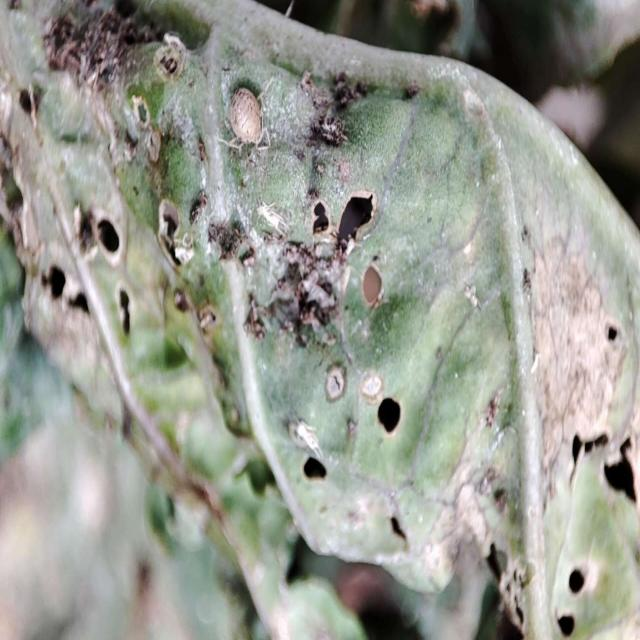Aphid-Grown-: (214, 66, 274, 160)
